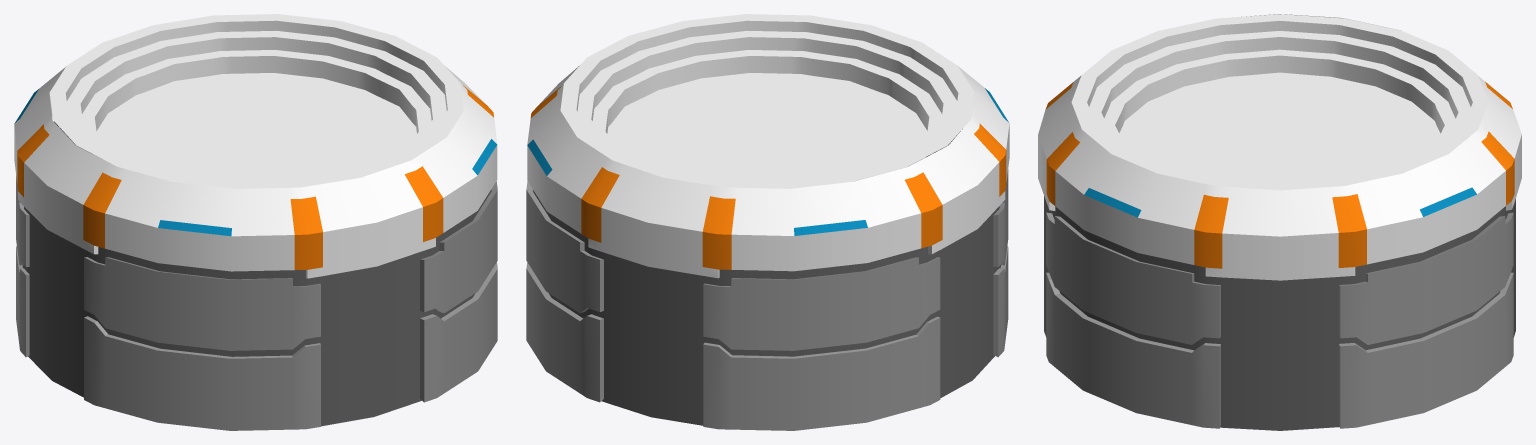
Rendered from Tower_base_asset.fbx.
3 renders of one model, left to right at view 1: azimuth 30°, elevation 25°; view 2: azimuth 150°, elevation 25°; view 3: azimuth 270°, elevation 25°, orthographic.
Parts seen in each view (by area): view 1: Tower_Base; view 2: Tower_Base; view 3: Tower_Base.
Part boxes in pixels (<box>): Tower_Base: <box>14,14,497,430</box>; Tower_Base: <box>526,14,1009,430</box>; Tower_Base: <box>1038,14,1521,430</box>.
Bounding box in the file's own units: 6.61 × 3.46 × 6.61.
